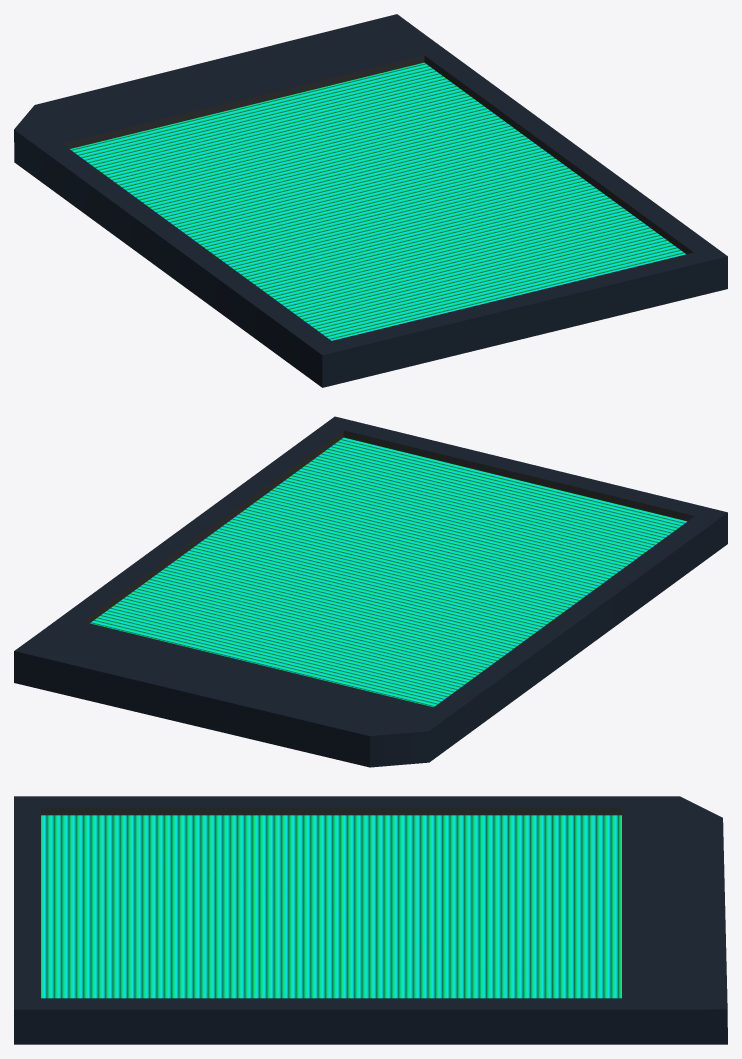
The model's file is libro.FBX.
3 renders of one model, top to bottom at view 1: azimuth 30°, elevation 25°; view 2: azimuth 150°, elevation 25°; view 3: azimuth 270°, elevation 25°, orthographic. The views are drawn at different scales.
Visible parts, largest first — view 1: Box002; view 2: Box002; view 3: Box002.
Part boxes in pixels (x1,y1,x2,y2): Box002: [14, 14, 727, 387]; Box002: [14, 416, 727, 767]; Box002: [14, 796, 727, 1044].
Size of the model in its own units: 5.12 by 0.3961 by 7.24.
